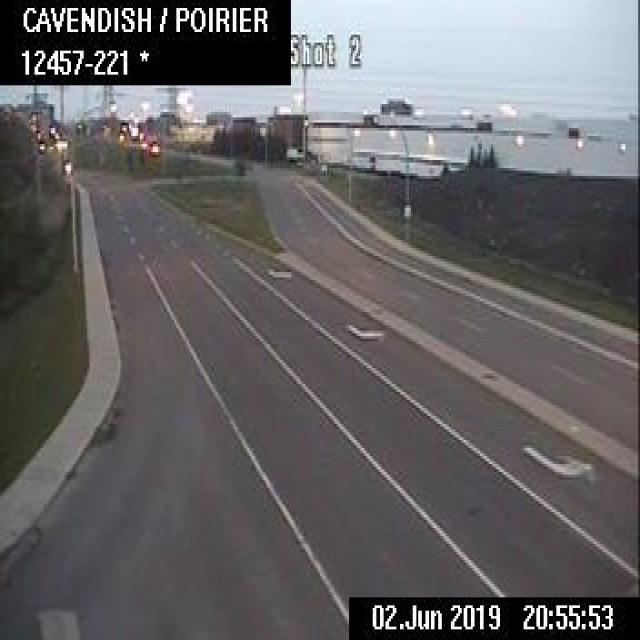vehicle: (53, 136, 69, 152), (60, 160, 73, 173)
